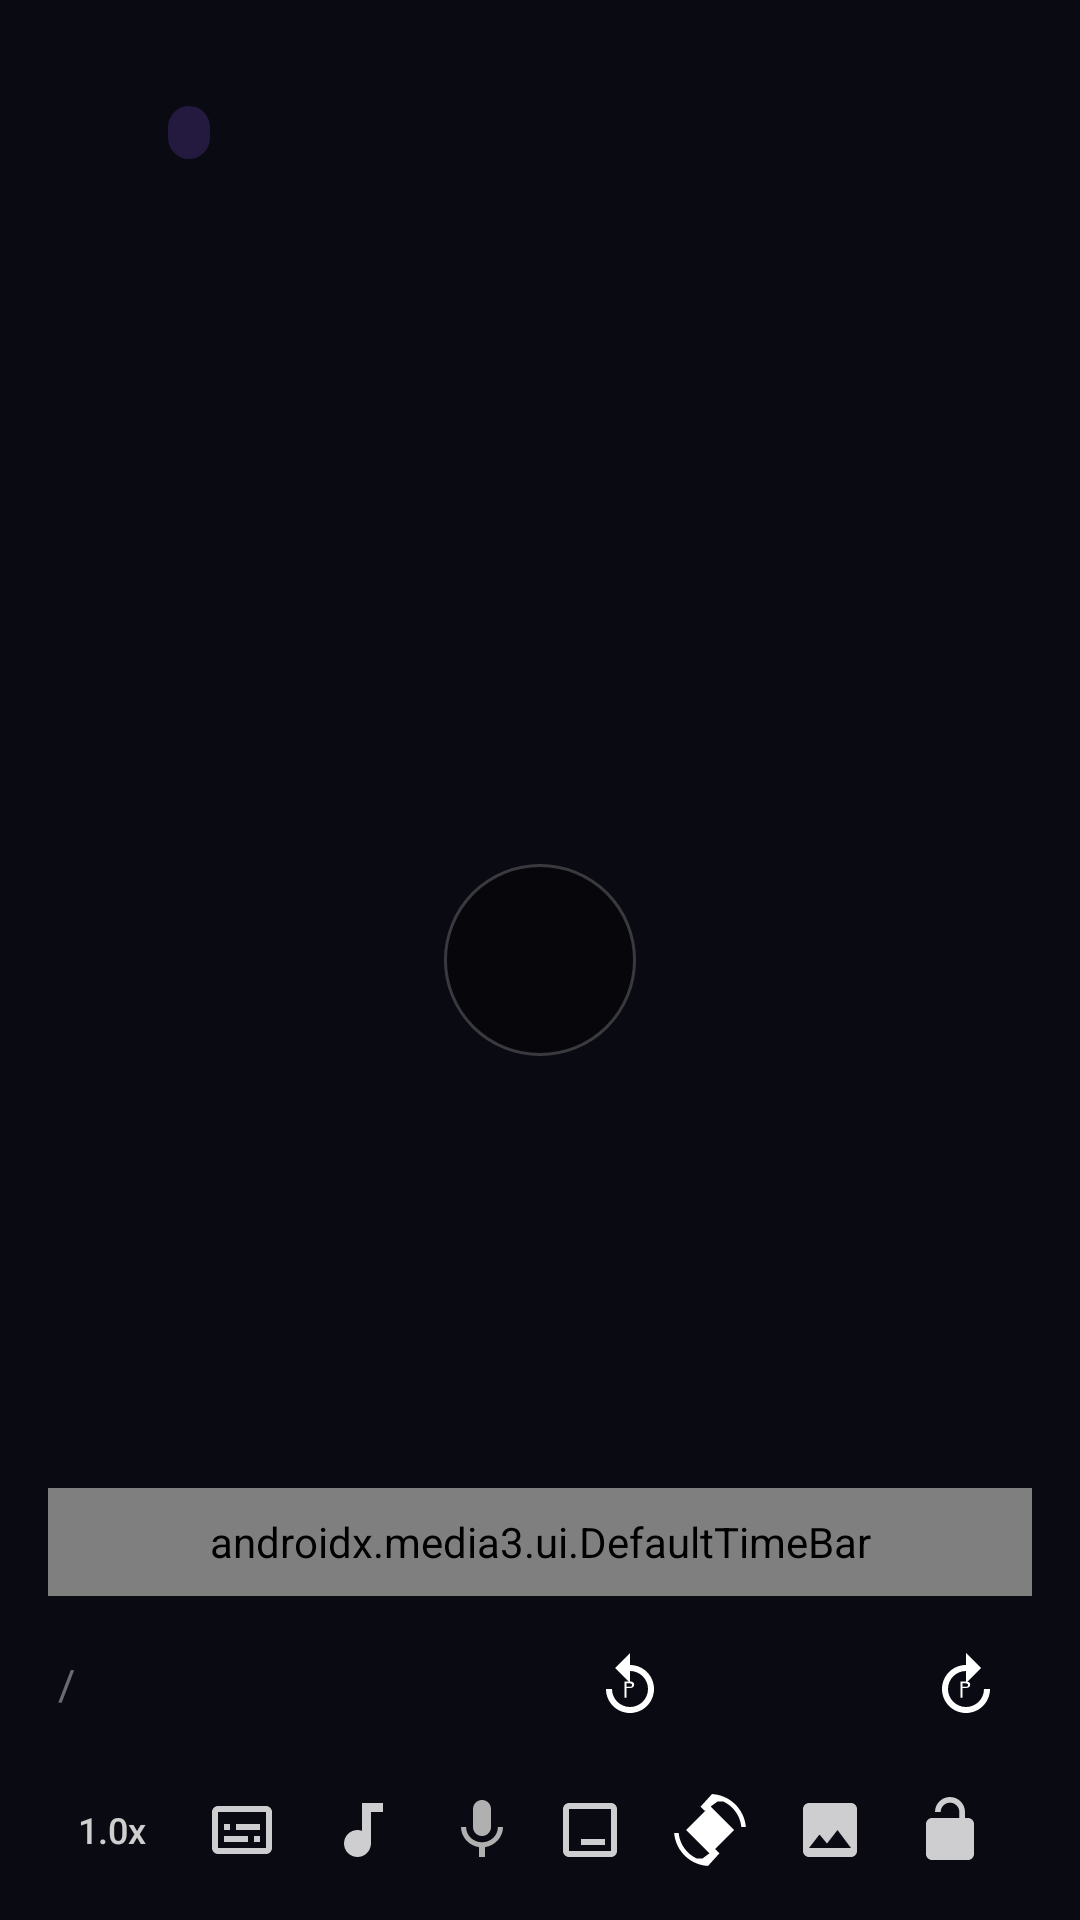

Icons on this 1080px x 1920px Android screen, each with its box as (x1, y1, x2, y2):
字幕: (212, 1806, 272, 1854)
屏幕方向: (674, 1794, 746, 1866)
快进: (942, 1653, 990, 1713)
快退: (606, 1653, 654, 1713)
画面比例: (563, 1803, 617, 1857)
语音转字幕: (461, 1800, 503, 1857)
锁定屏幕: (926, 1797, 974, 1860)
音轨: (344, 1803, 383, 1857)
